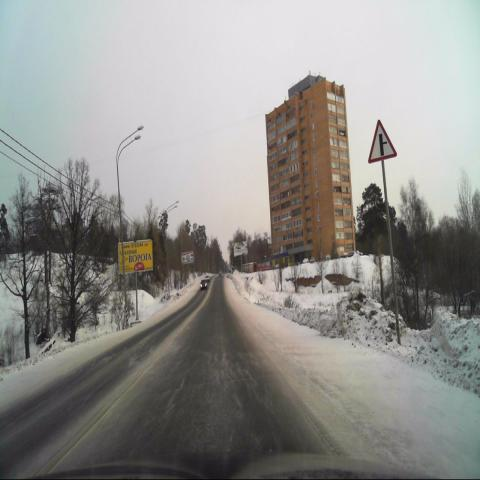2_3_2: (368, 119, 399, 163)
